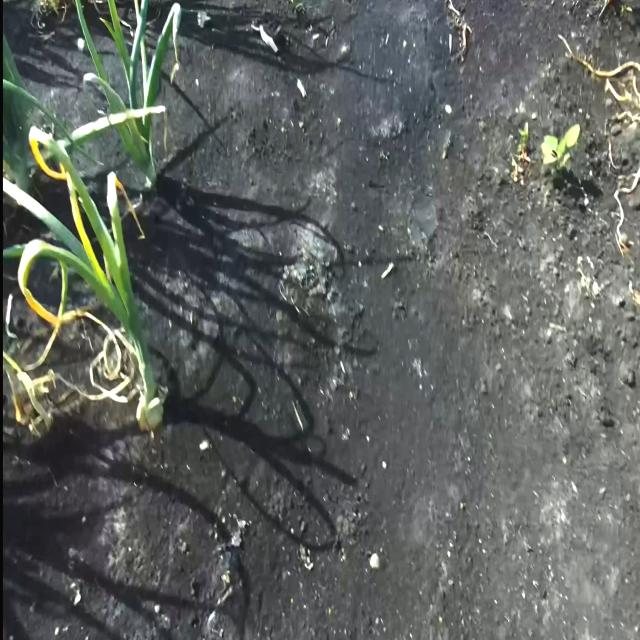onion: (136, 388, 164, 435)
